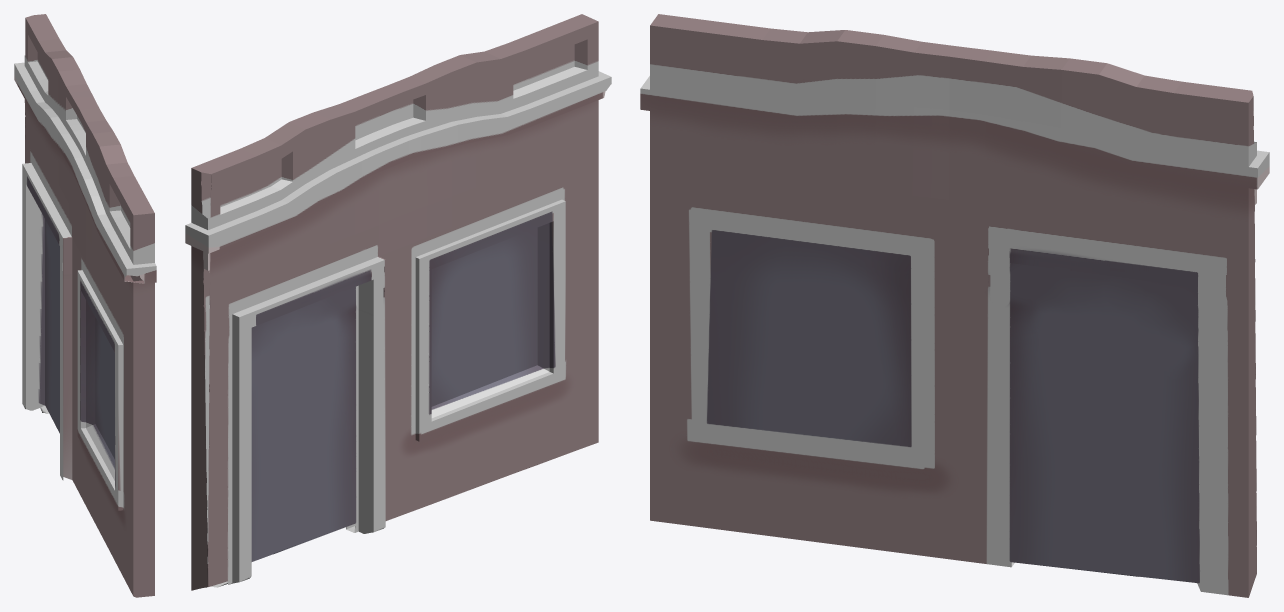
The model's file is casa2.fbx.
3 views of the same model, side by side, from view 1: azimuth 30°, elevation 25°; view 2: azimuth 150°, elevation 25°; view 3: azimuth 270°, elevation 25° (orthographic). The views are drawn at different scales.
Visible parts, largest first — view 1: casa2; view 2: casa2; view 3: casa2.
Part boxes in pixels (bbox=[...]): casa2: bbox=[14, 14, 156, 597]; casa2: bbox=[185, 14, 611, 590]; casa2: bbox=[640, 14, 1269, 597].
Bounding box in the file's own units: 71.83 × 176 × 199.
Materials: 1 (1 with a texture image).
